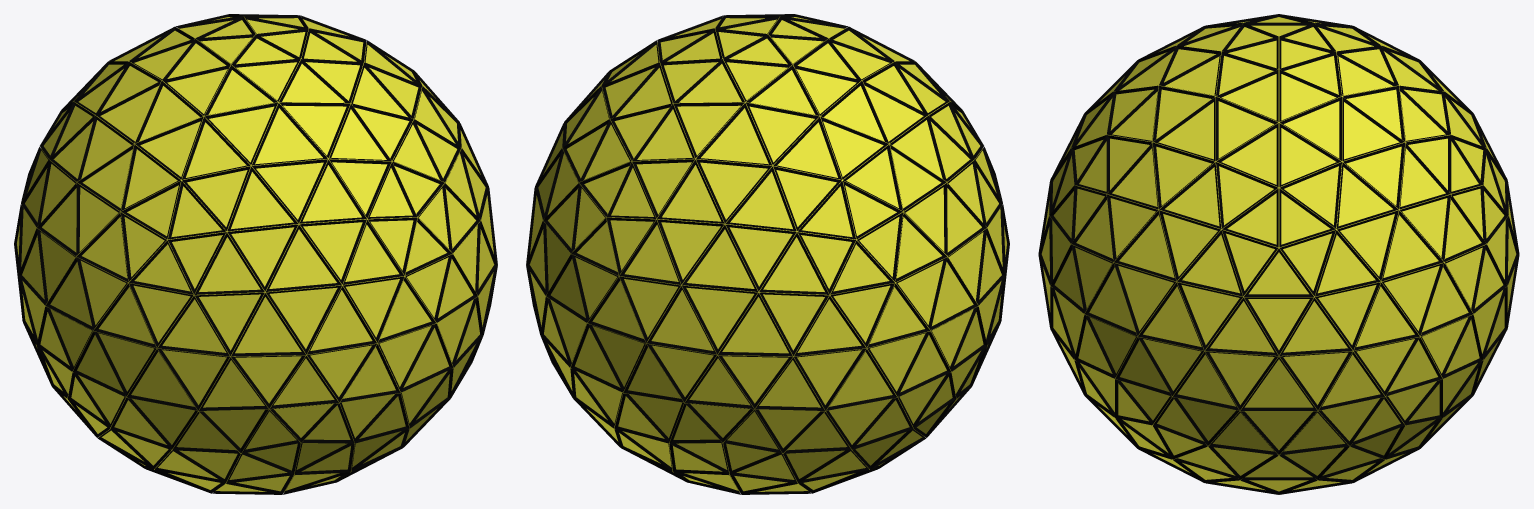
Rendered from balls.glb.
3 views of the same model, side by side, from view 1: azimuth 30°, elevation 25°; view 2: azimuth 150°, elevation 25°; view 3: azimuth 270°, elevation 25° (orthographic).
Parts seen in each view (by area): view 1: Icosphere, Icosphere.001; view 2: Icosphere, Icosphere.001; view 3: Icosphere, Icosphere.001.
Part boxes in pixels (x1,y1,x2,y2): Icosphere: (17,17,494,491); Icosphere.001: (14,14,497,494); Icosphere: (529,17,1006,491); Icosphere.001: (526,14,1009,494); Icosphere: (1041,17,1516,491); Icosphere.001: (1038,14,1519,494).
Size of the model in its own units: 2.02 by 2.02 by 2.02.
